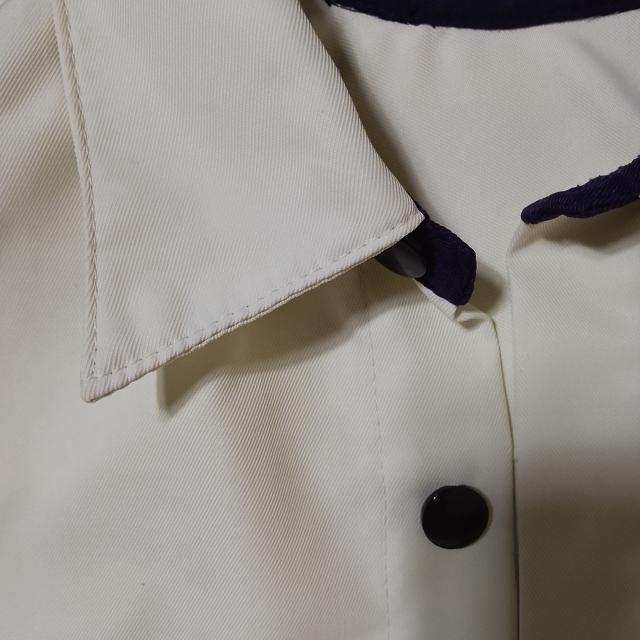education_male_uniform: (57, 0, 636, 620)
